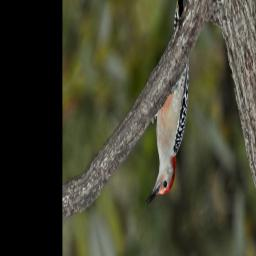Woodpecker: (109, 0, 221, 213)
